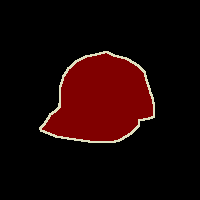hat: (40, 52, 154, 142)
